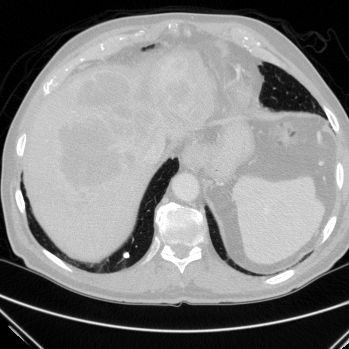nodule: (122, 251, 130, 259)
